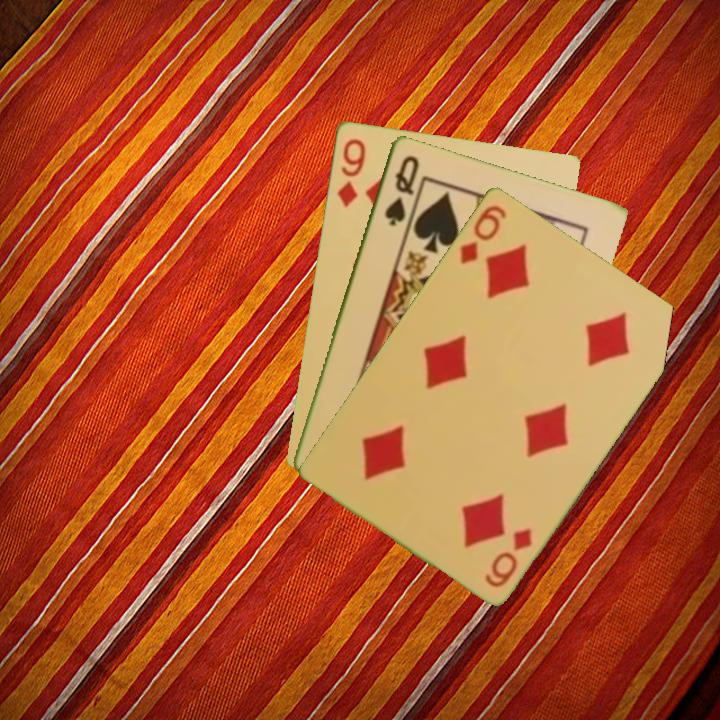6d: (481, 523, 535, 590), (456, 200, 509, 267)
9d: (333, 134, 368, 210)
Qs: (381, 151, 422, 229)
